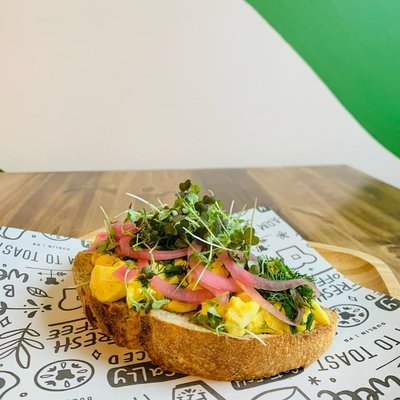soup: (144, 252, 338, 384)
